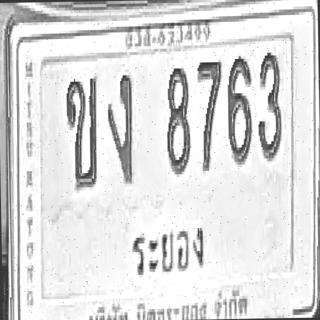A02: (65, 74, 98, 189)
A07: (106, 72, 134, 184)
N03: (256, 51, 282, 160)
N06: (227, 54, 252, 163)
N07: (197, 59, 222, 171)
N08: (165, 65, 190, 174)
P53: (126, 209, 208, 286)
